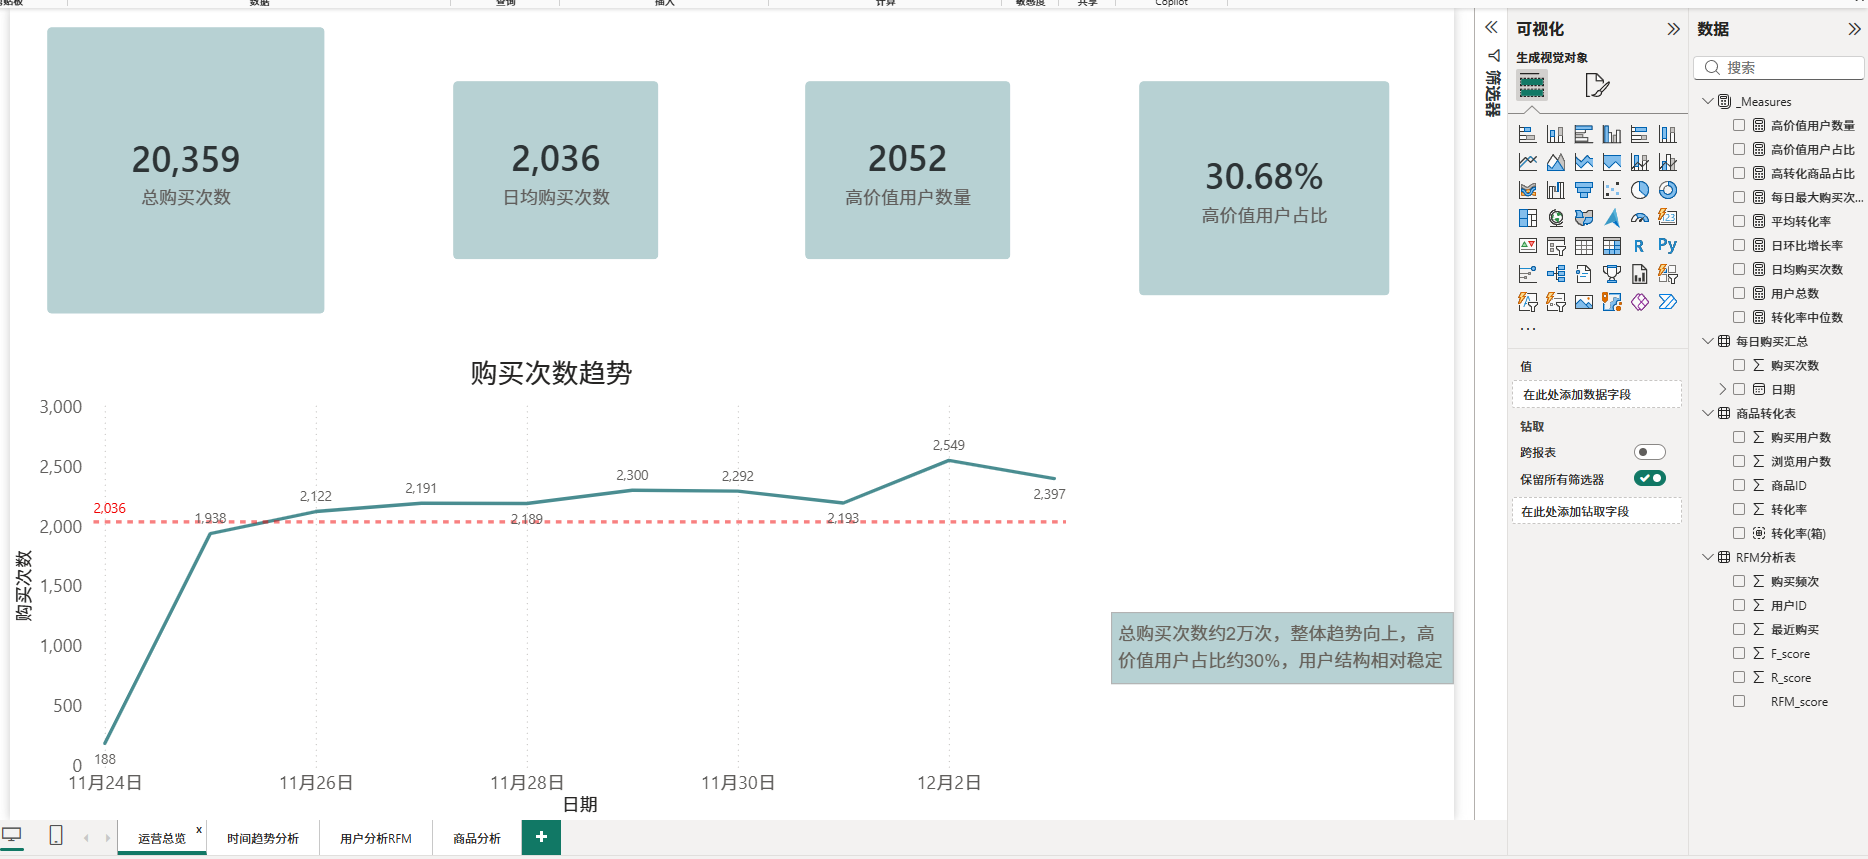

The page's visual inventory and layout, read from the dashboard file:
{"tool":"powerbi","page":{"name":"运营总览","canvas":[1280,720],"ordinal":0},"visuals":[{"type":"cardVisual","fields":{"Data":["Sum(每日购买次数表.buy_count)"]},"box":[16,0,280,288],"z":0},{"type":"cardVisual","fields":{"Data":["Measures (.日均购买次数"]},"box":[376,48,216,192],"z":1000},{"type":"cardVisual","fields":{"Data":["Measures (.高价值用户数量"]},"box":[688,48,216,192],"z":2000},{"type":"cardVisual","fields":{"Data":["Measures (.高价值用户占比"]},"box":[984,48,256,224],"z":3000},{"type":"lineChart","title":"购买次数趋势","fields":{"Y":["Sum(每日购买次数表.buy_count)"],"Category":["每日购买汇总.日期"]},"box":[0,304,960,416],"z":4000},{"type":"textbox","box":[976,536,304,64],"z":5000}]}

Visuals, with their boxes on the page's 1280x720 design canvas (x1, y1, x2, y2). These are canvas units, not pixel positions in the 1868x859 screenshot, which may show the page scaled, cropped or inside an application window:
cardVisual - Sum(每日购买次数表.buy_count): {"x1": 16, "y1": 0, "x2": 296, "y2": 288}
cardVisual - Measures (.日均购买次数: {"x1": 376, "y1": 48, "x2": 592, "y2": 240}
cardVisual - Measures (.高价值用户数量: {"x1": 688, "y1": 48, "x2": 904, "y2": 240}
cardVisual - Measures (.高价值用户占比: {"x1": 984, "y1": 48, "x2": 1240, "y2": 272}
"购买次数趋势" lineChart: {"x1": 0, "y1": 304, "x2": 960, "y2": 720}
textbox: {"x1": 976, "y1": 536, "x2": 1280, "y2": 600}
